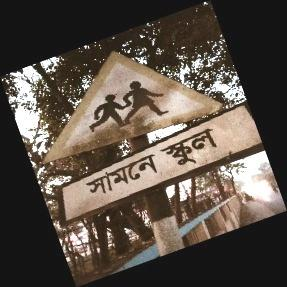School-in-front: (39, 46, 266, 234)
